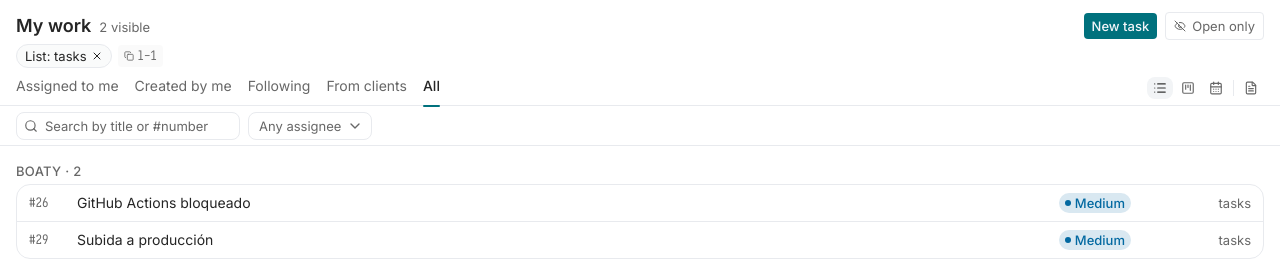
buscar en Mi trabajo › si no queda ninguna, lo dice
In the search field: (128, 126) [16,112,240,140], type "nada de esto"
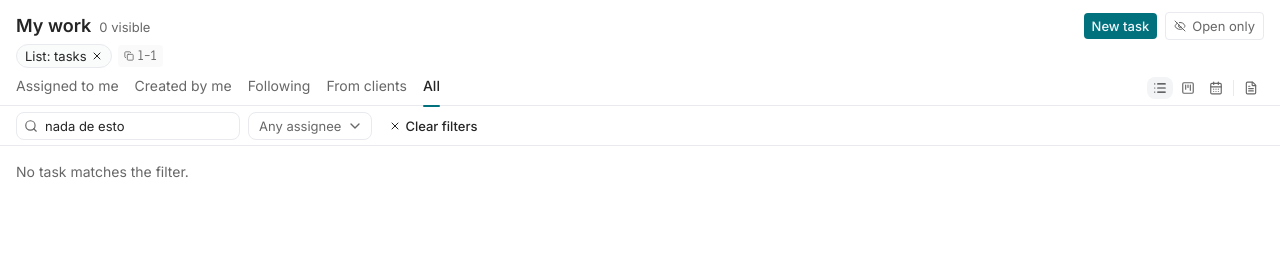
expect the text "No task matches the filter." is shown: met, box [16,163,189,180]
